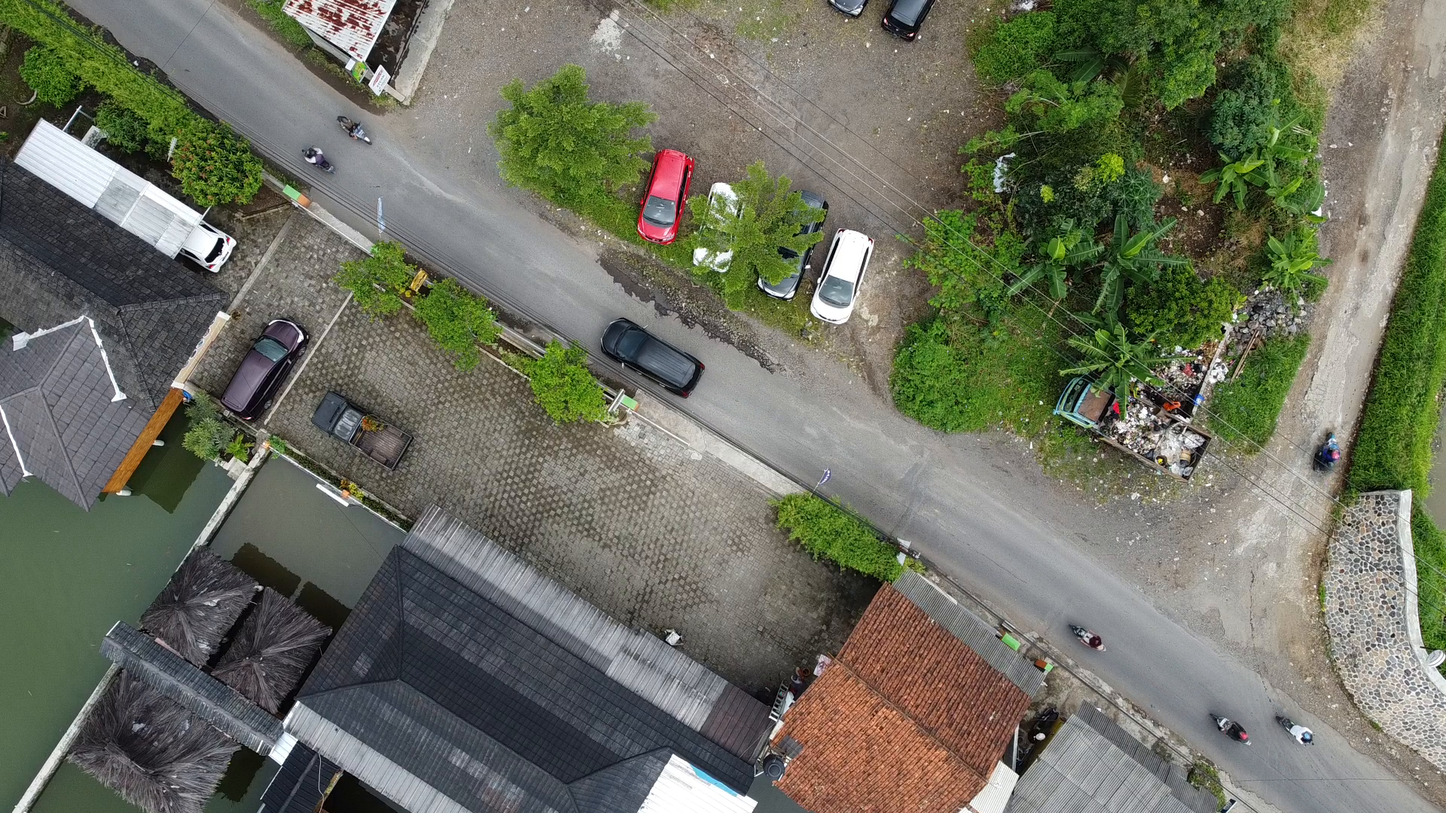mobil: (601, 306, 718, 411), (301, 383, 429, 477), (214, 310, 314, 425), (752, 182, 831, 321), (805, 222, 874, 330), (630, 140, 703, 237), (694, 173, 752, 271), (174, 218, 236, 279), (871, 1, 936, 50)
